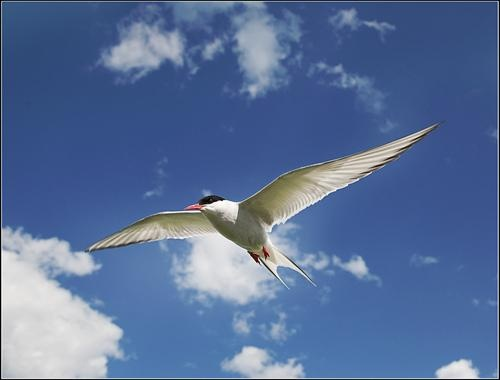bird: (86, 120, 443, 291)
